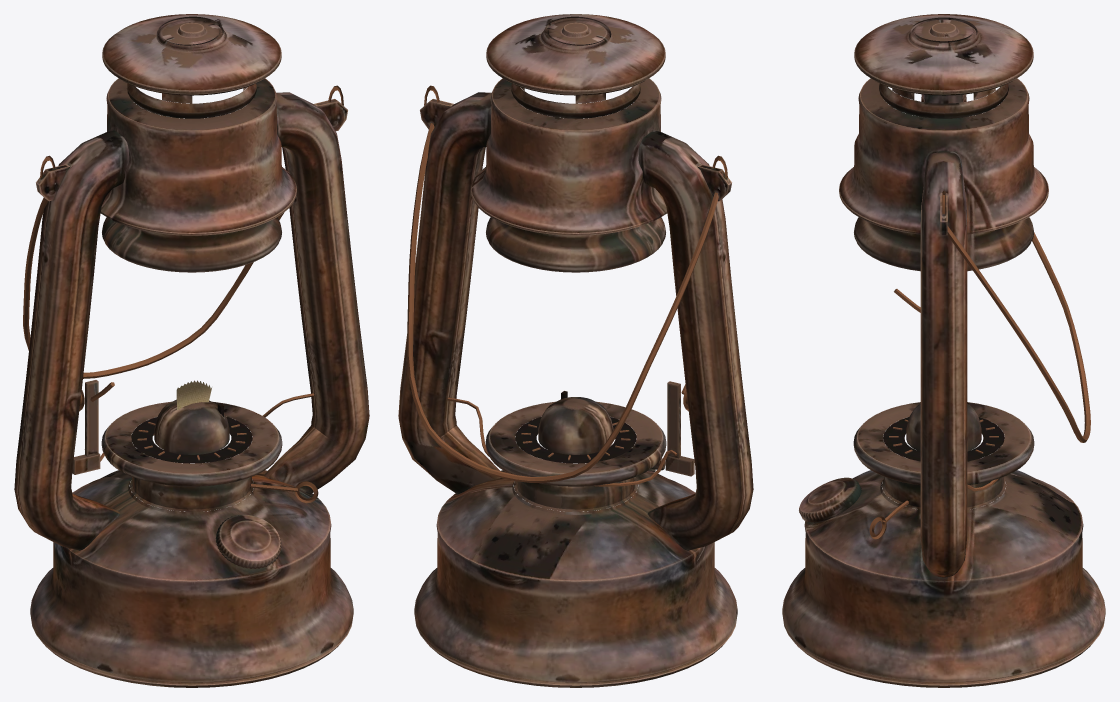
The model's file is lanterna_b.glb.
3 views of the same model, side by side, from view 1: azimuth 30°, elevation 25°; view 2: azimuth 150°, elevation 25°; view 3: azimuth 270°, elevation 25° (orthographic).
Parts seen in each view (by area): view 1: Lanterna; view 2: Lanterna; view 3: Lanterna.
Part boxes in pixels (x1,y1,x2,y2): Lanterna: (14, 14, 369, 687); Lanterna: (398, 14, 753, 687); Lanterna: (782, 14, 1105, 687).
Bounding box in the file's own units: 0.2855 × 0.4804 × 0.2324.
Materials: 1 (1 with a texture image).
